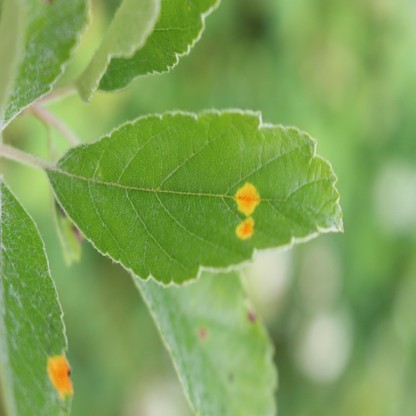rust: (235, 183, 259, 237), (47, 352, 73, 401)
